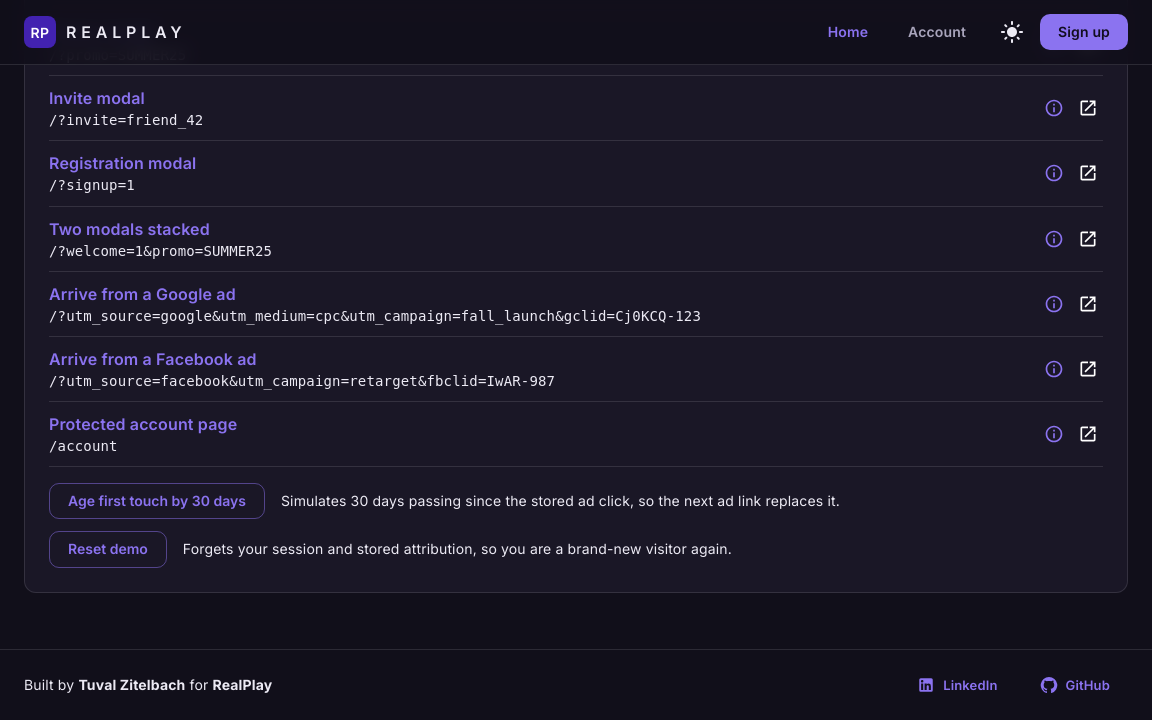
Age first touch (reviewer helper) › lets a later ad replace the first touch, as if 30 days had passed
(page scrolled)
Click the button "Age first touch by 30 days" at (157, 501), box x1=49 y1=483 x2=265 y2=519
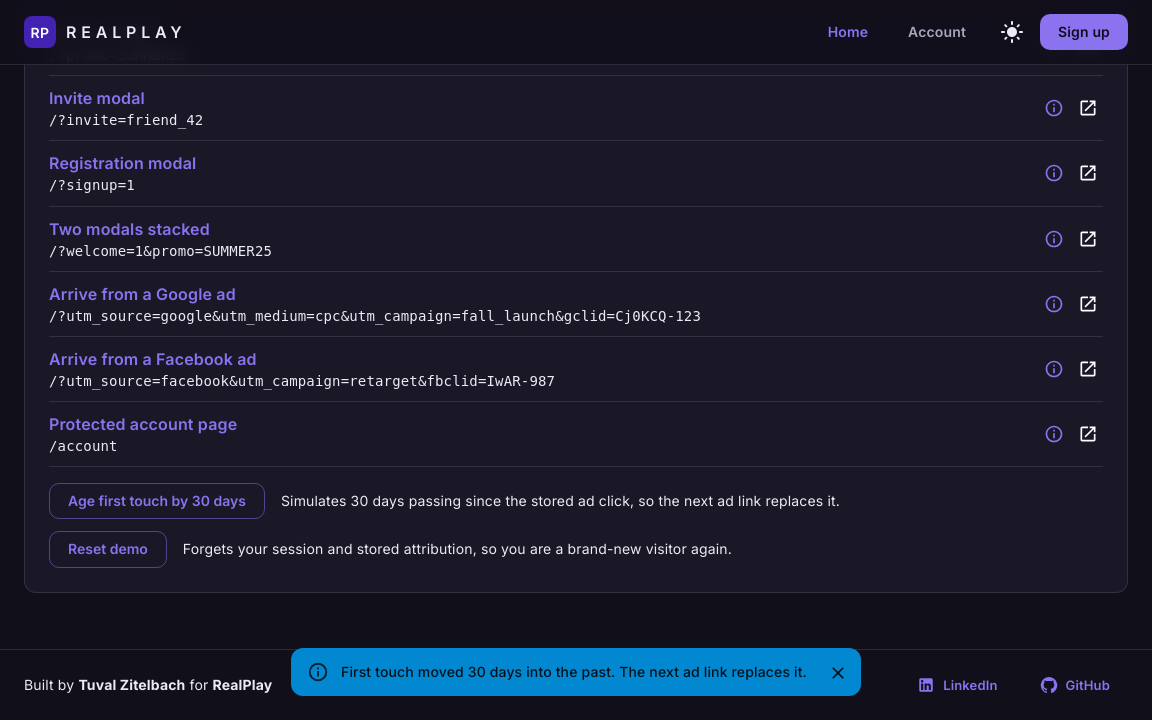
Expected: the message shows "First touch moved 30 days into the past", x1=341 y1=663 x2=807 y2=680
